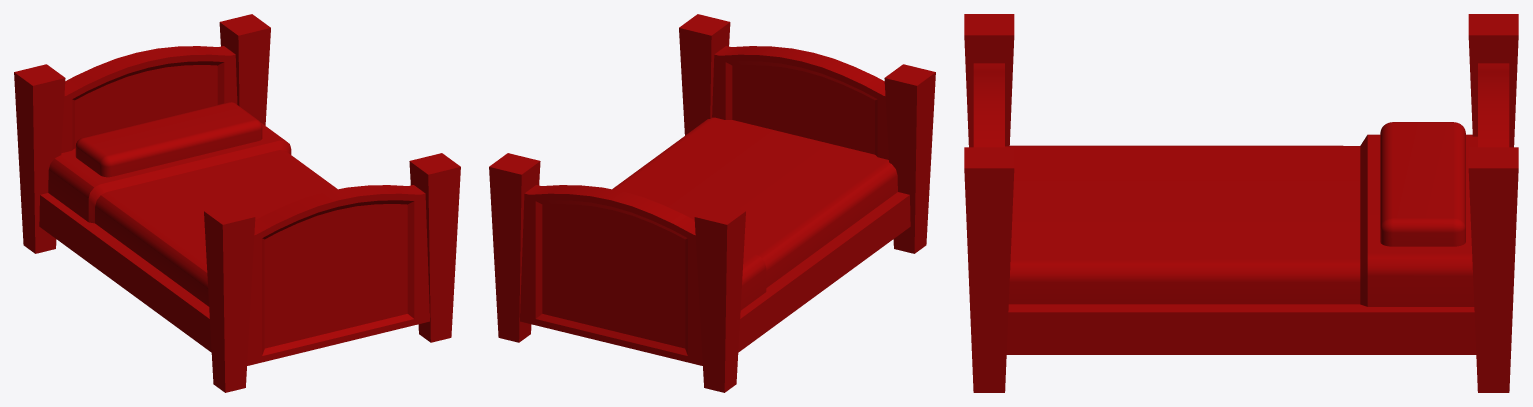
File: bed_low.fbx
The picture shows the model from 3 angles, left to right: view 1: azimuth 30°, elevation 25°; view 2: azimuth 150°, elevation 25°; view 3: azimuth 270°, elevation 25°; orthographic projection. The views are drawn at different scales.
Parts seen in each view (by area): view 1: Frame, Frame_Pillow, Sheet, Pillow, Board; view 2: Frame_Pillow, Frame, Sheet, Board; view 3: Sheet, Board, Frame, Frame_Pillow, Pillow.
Boxes of the visible parts, x1=… form: Frame: x1=204, y1=153, x2=460, y2=392; Frame_Pillow: x1=14, y1=14, x2=270, y2=253; Sheet: x1=48, y1=123, x2=337, y2=306; Pillow: x1=75, y1=102, x2=262, y2=177; Board: x1=39, y1=193, x2=211, y2=352; Frame_Pillow: x1=489, y1=153, x2=745, y2=392; Frame: x1=679, y1=14, x2=935, y2=253; Sheet: x1=612, y1=117, x2=897, y2=310; Board: x1=738, y1=192, x2=910, y2=352; Sheet: x1=1005, y1=134, x2=1477, y2=306; Board: x1=1006, y1=304, x2=1476, y2=354; Frame: x1=964, y1=14, x2=1014, y2=392; Frame_Pillow: x1=1468, y1=14, x2=1518, y2=392; Pillow: x1=1380, y1=122, x2=1465, y2=246.
Bounding box in the file's own units: 69.53 × 48 × 106.
